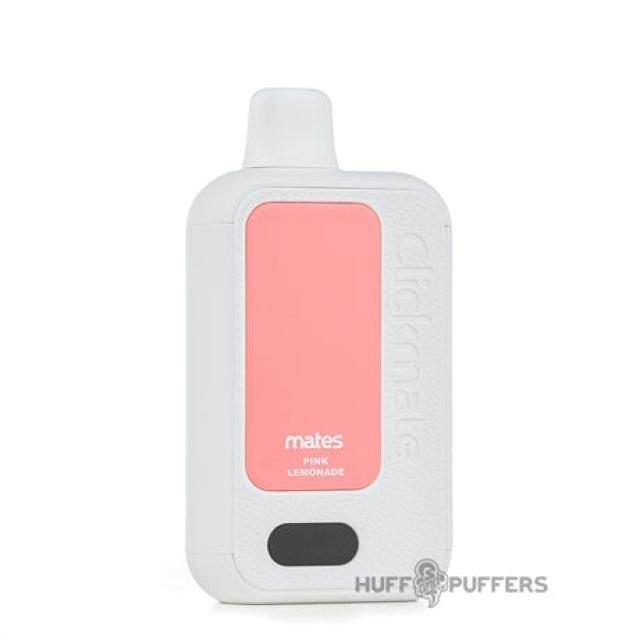Vapes: (182, 85, 454, 606)
